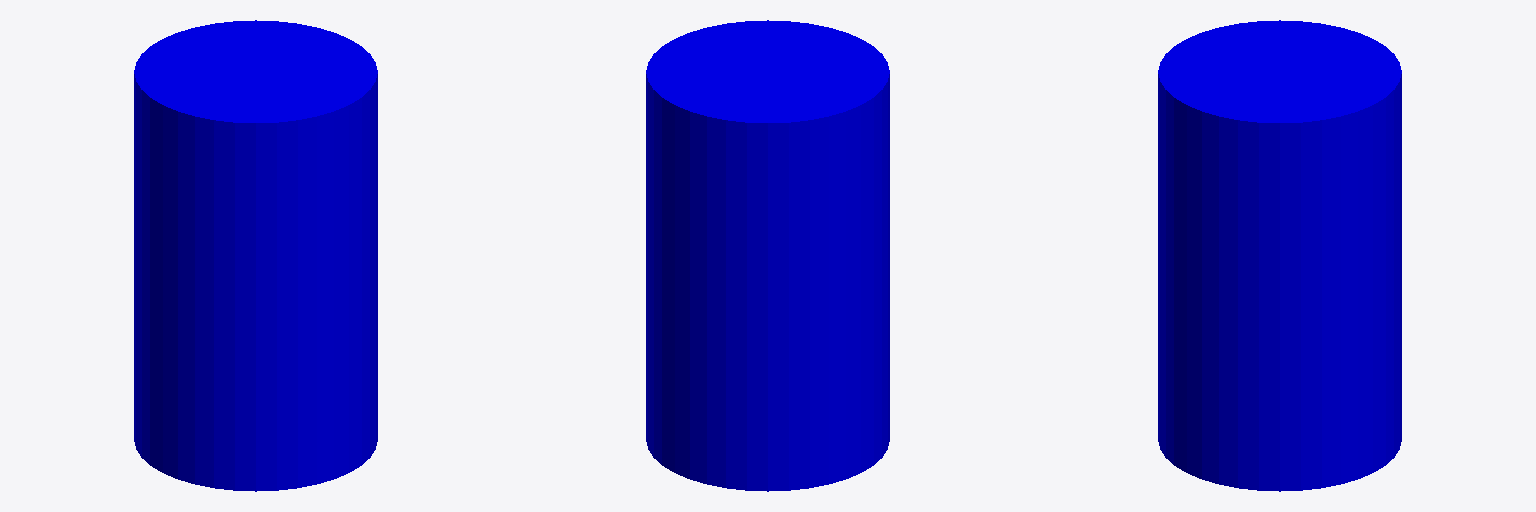
robot.urdf — permanent_magnet:
<?xml version="1.0" encoding="utf-8"?>
<!-- This URDF was automatically created by SolidWorks to URDF Exporter! Originally created by [author] ([email redacted]) 
     Commit Version: 1.6.0-4-g7f85cfe  Build Version: 1.6.7995.38578
     For more information, please see http://wiki.ros.org/sw_urdf_exporter -->
<robot
  name="permanent_magnet">
  <link
    name="base_link">
    <inertial>
      <origin
        xyz="1.2272E-18 0 0"
        rpy="0 0 0" />
      <mass
        value="2.2619" />
      <inertia
        ixx="0.0039207"
        ixy="0"
        ixz="-2.351E-35"
        iyy="0.0039207"
        iyz="-1.3113E-35"
        izz="0.0040715" />
    </inertial>
    <visual>
      <origin
        xyz="0 0 0"
        rpy="0 0 0" />
      <geometry>
        <mesh
          filename="../meshes/permanent_magnet.STL" />
      </geometry>
      <material
        name="">
        <color
          rgba="0 0 1 1" />
      </material>
    </visual>
    <collision>
      <origin
        xyz="0 0 0"
        rpy="0 0 0" />
      <geometry>
        <mesh
          filename="../meshes/permanent_magnet.STL" />
      </geometry>
    </collision>
  </link>
</robot>

--- Facts derived from the render (not from the file) ---
The picture shows the robot from 3 angles, left to right: view 1: azimuth 30°, elevation 25°; view 2: azimuth 150°, elevation 25°; view 3: azimuth 270°, elevation 25°; orthographic projection.
Model permanent_magnet with 1 links and 0 joints (none), rooted at base_link, posed every joint at zero.
Visible links, largest first — view 1: base_link; view 2: base_link; view 3: base_link.
Boxes of the visible links, x1,y1,x2,y2 form: base_link: (134,20,377,491); base_link: (646,20,889,491); base_link: (1158,20,1401,491).
Size in the robot's own frame: 0.12 by 0.12 by 0.2 metres.
1 mesh visuals loaded from 1 distinct referenced files (1 binary STL).